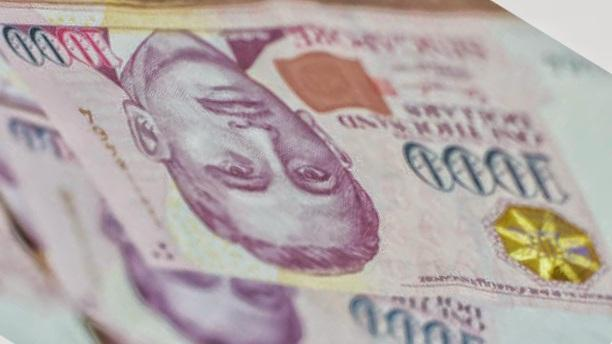1000SingaporeDollar: (0, 9, 612, 300)
